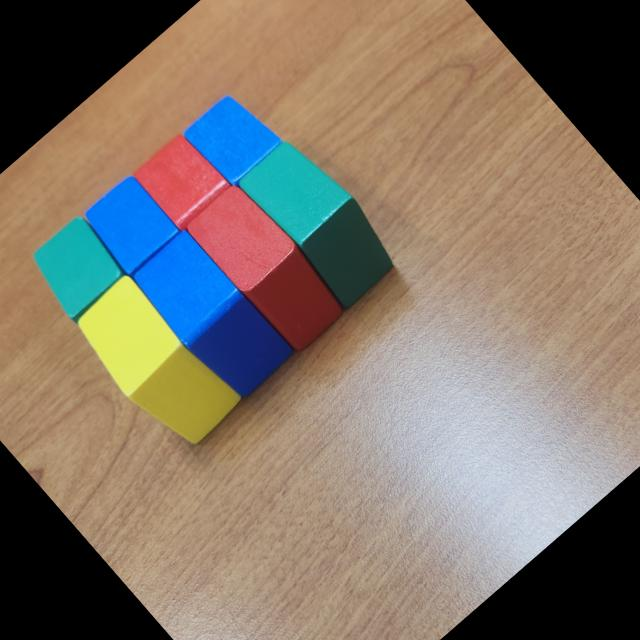blue: (125, 225, 298, 407), (76, 171, 188, 284), (180, 85, 286, 191)
green: (235, 129, 408, 311), (21, 210, 135, 324)
red: (183, 179, 350, 356), (130, 128, 235, 234)
yellow: (66, 271, 245, 459)
